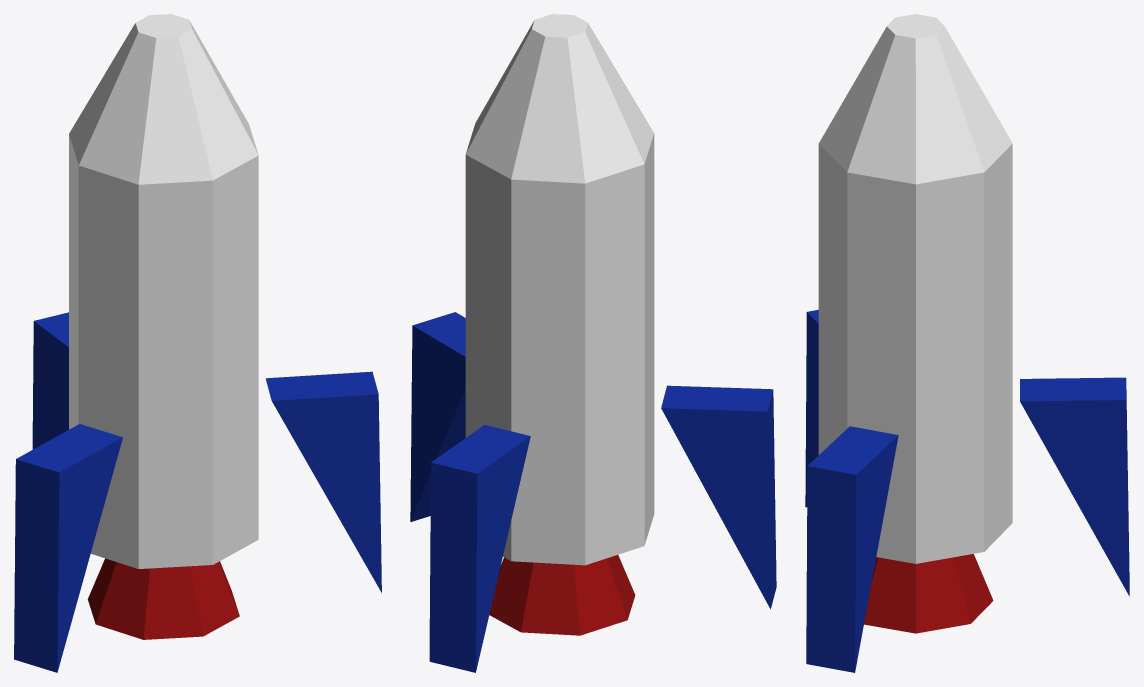
The model's file is Rocket_Up.fbx.
3 renders of one model, left to right at view 1: azimuth 30°, elevation 25°; view 2: azimuth 150°, elevation 25°; view 3: azimuth 270°, elevation 25°, orthographic.
Parts seen in each view (by area): view 1: Rocket_Up; view 2: Rocket_Up; view 3: Rocket_Up.
Boxes of the visible parts, x1,y1,x2,y2 form: Rocket_Up: [14, 14, 381, 672]; Rocket_Up: [410, 14, 776, 672]; Rocket_Up: [805, 14, 1129, 672].
Size of the model in its own units: 247 by 379 by 194.
